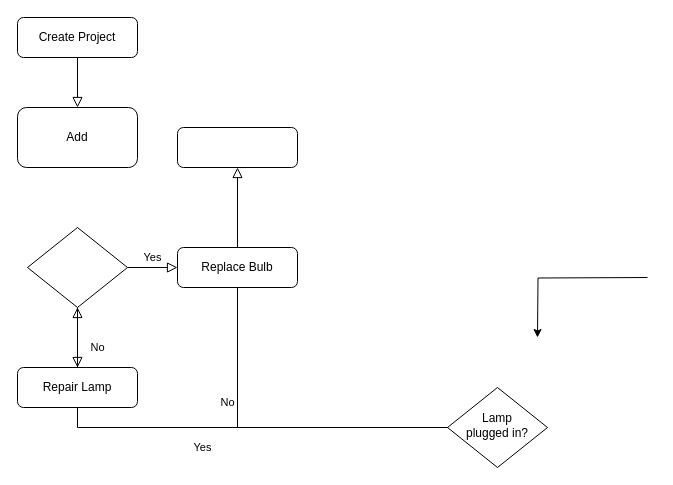
Image size: 673x485. Some labels were removed from this diagram. The shapes that lost their labels are listed below. From the top down, each one's centre as x and y in pixels, then its label:
pixel 237 147: Plug in lamp
pixel 77 267: Bulb burned out?
